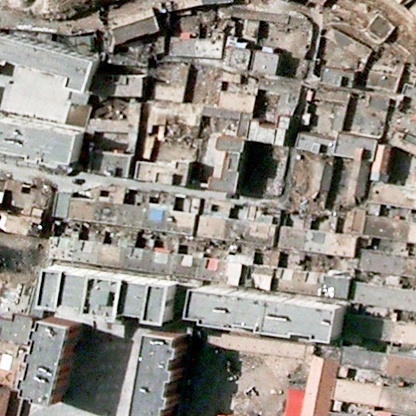collapsed: (284, 154, 328, 221), (103, 41, 159, 74), (155, 115, 203, 152), (29, 180, 57, 242)
